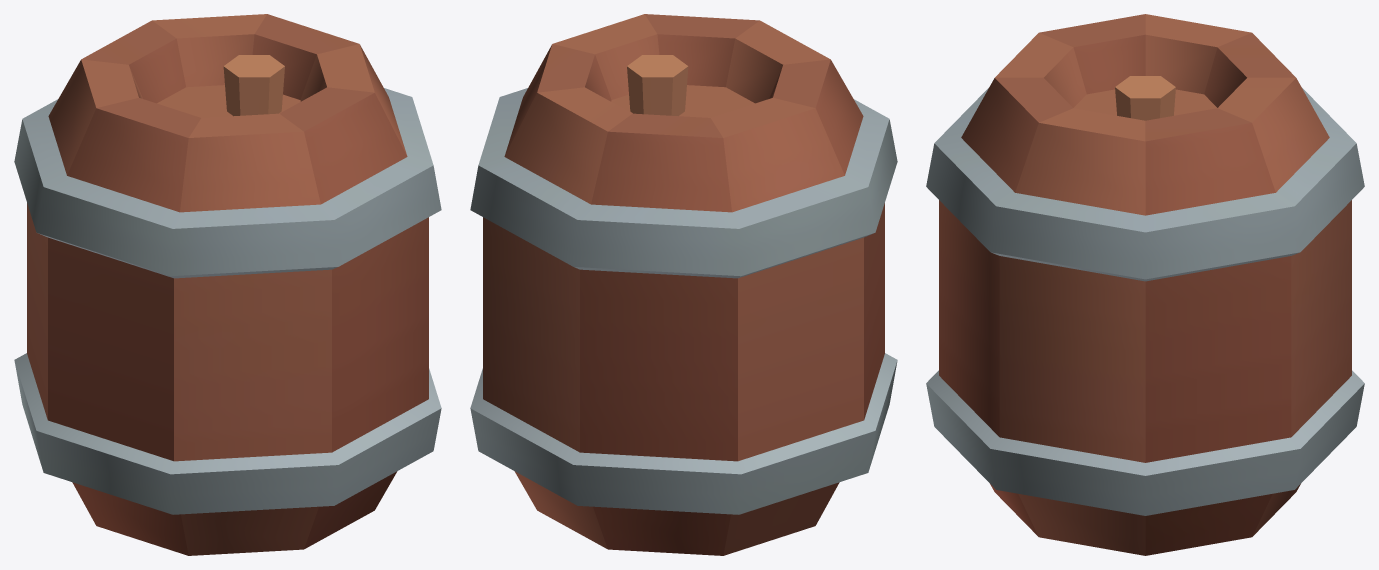
Rendered from barrel.glb.
3 renders of one model, left to right at view 1: azimuth 30°, elevation 25°; view 2: azimuth 150°, elevation 25°; view 3: azimuth 270°, elevation 25°, orthographic.
Parts seen in each view (by area): view 1: barrel; view 2: barrel; view 3: barrel.
Boxes of the visible parts, box(x1,y1,x2,y2) form: barrel: box(14, 14, 441, 555); barrel: box(470, 14, 897, 555); barrel: box(926, 14, 1364, 555).
Size of the model in its own units: 0.2015 by 0.2117 by 0.2015.
1 material, 1 textured.
